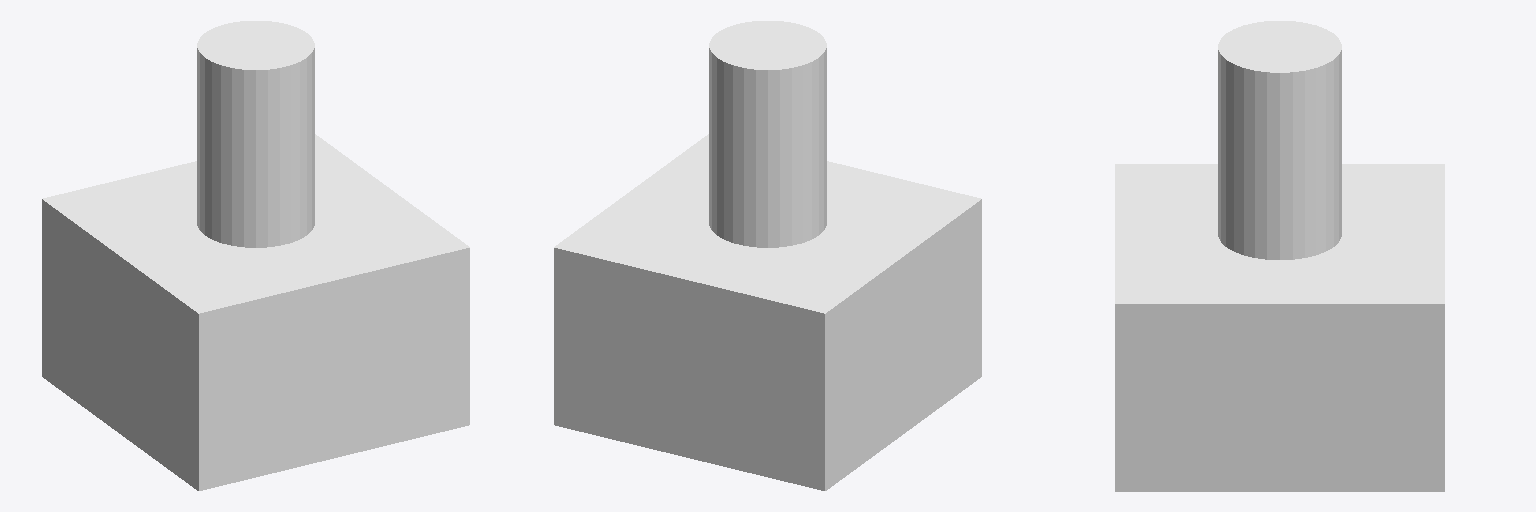
URDF robot description (cylinder):
<robot name="cylinder">
	<link name="_name">
		<visual>
			<origin rpy="0 0 0" xyz="1.207055431985952e-19 -2.971213371042343e-19 -0.006767453201837254" />
			<geometry>
				<mesh filename="cylinder.obj" scale=".001 .001 .001" />
			</geometry>
			<material name="texture">
				<color rgba="1.0 1.0 1.0 1.0" />
			</material>
		</visual>
		<collision>
			<geometry>
				<mesh filename="cylinder_vhacd.obj" scale=".001 .001 .001" />
			</geometry>
		<origin rpy="0 0 0" xyz="1.207055431985952e-19 -2.971213371042343e-19 -0.006767453201837254" /></collision>
		<inertial>
			<mass value="1.0" />
			<inertia ixx="1.0" ixy="0.0" ixz="0.0" iyy="1.0" iyz="0.0" izz="1.0" />
		</inertial>
	</link>
</robot>

--- Facts derived from the render (not from the file) ---
Views: 3 orthographic renders of the robot side by side, from view 1: azimuth 30°, elevation 25°; view 2: azimuth 150°, elevation 25°; view 3: azimuth 270°, elevation 25°.
Model cylinder with 1 links and 0 joints (none), rooted at _name, posed every joint at zero.
Visible links, largest first — view 1: _name; view 2: _name; view 3: _name.
Link boxes in pixels (x1=…): _name: x1=42, y1=21, x2=469, y2=490; _name: x1=554, y1=21, x2=981, y2=490; _name: x1=1115, y1=21, x2=1444, y2=491.
Bounding box of the posed robot: 0.016 × 0.016 × 0.02 m (x, y, z).
Meshes: 1 distinct files referenced, 1 mesh visuals loaded (1 OBJ).